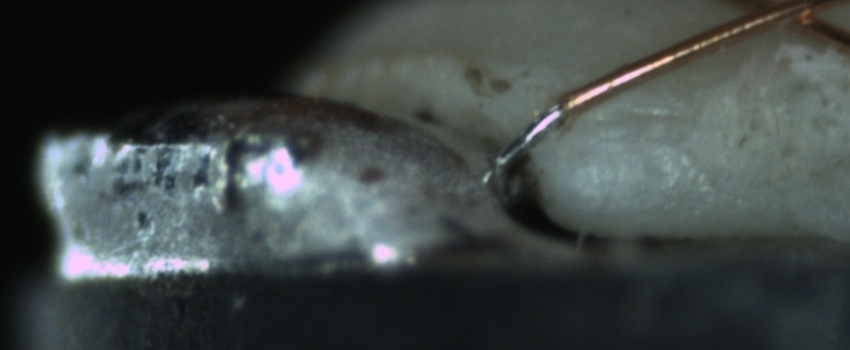CL: (718, 1, 839, 38)
DL: (567, 94, 696, 156)
TS: (493, 103, 567, 173)
